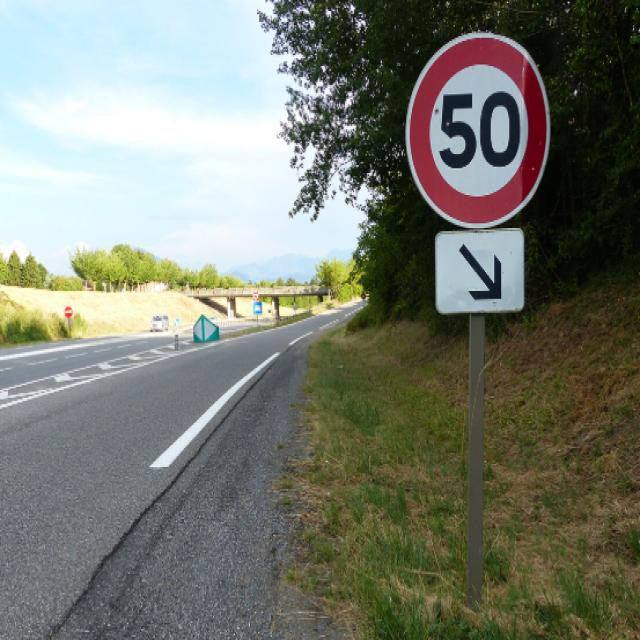speed_50: (402, 28, 553, 226)
